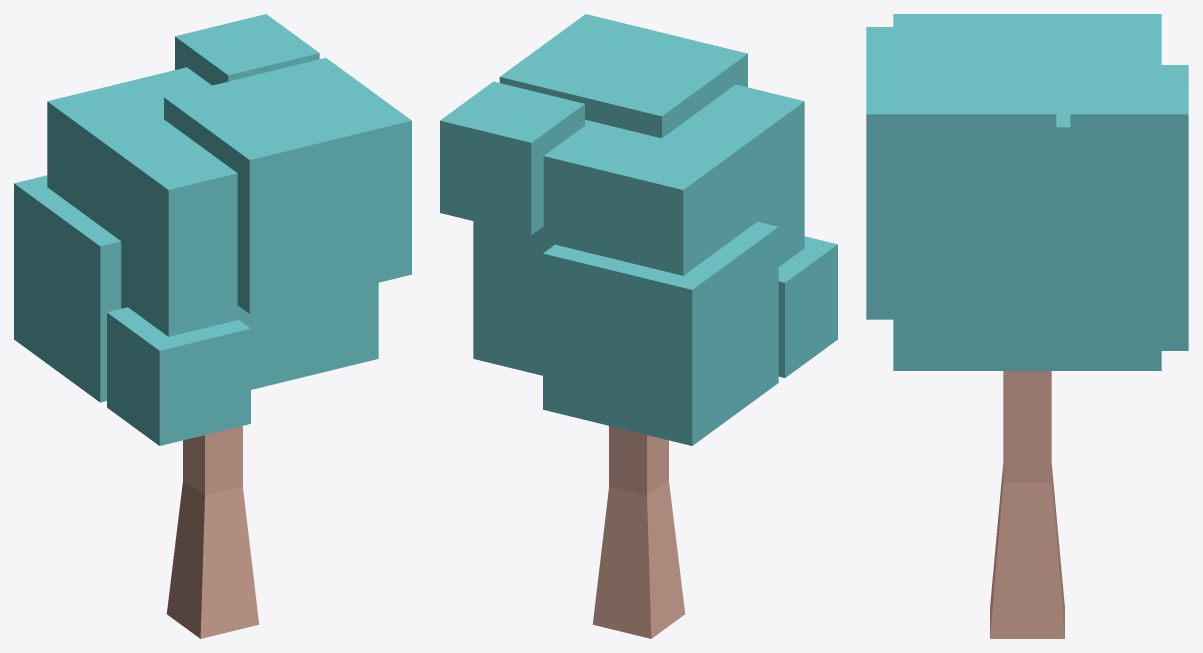
The model's file is Tree01.fbx.
3 views of the same model, side by side, from view 1: azimuth 30°, elevation 25°; view 2: azimuth 150°, elevation 25°; view 3: azimuth 270°, elevation 25° (orthographic). The views are drawn at different scales.
Parts seen in each view (by area): view 1: tree_01; view 2: tree_01; view 3: tree_01.
Boxes of the visible parts, x1=… form: tree_01: x1=14, y1=14, x2=411, y2=638; tree_01: x1=440, y1=14, x2=837, y2=638; tree_01: x1=866, y1=14, x2=1188, y2=638.
Size of the model in its own units: 236 by 466 by 236.
